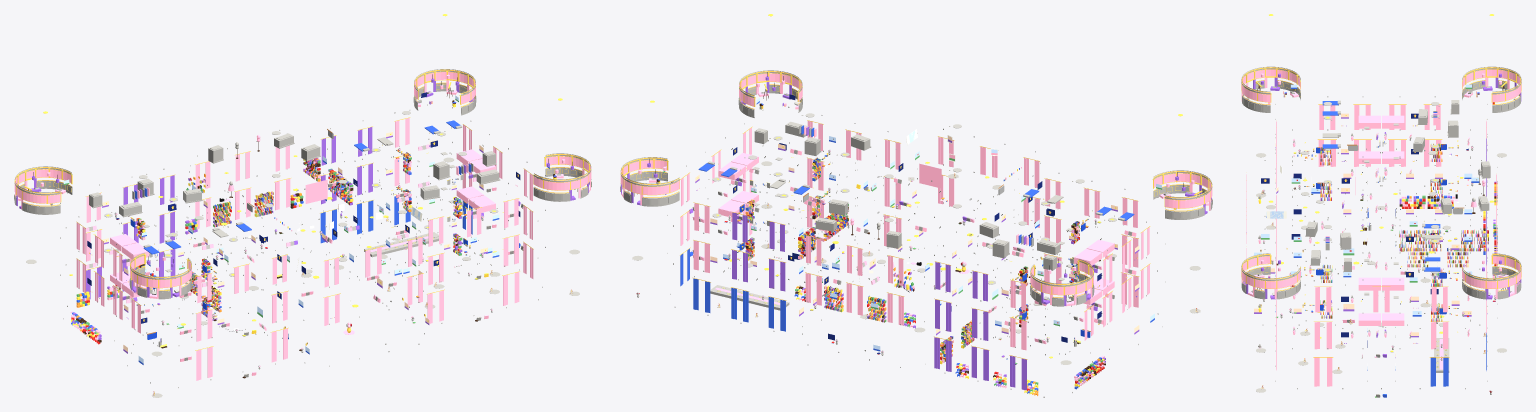
File: SM_ObeliskGirls_Interior_NoCol.fbx
3 views of the same model, side by side, from view 1: azimuth 30°, elevation 25°; view 2: azimuth 150°, elevation 25°; view 3: azimuth 270°, elevation 25° (orthographic). The views are drawn at different scales.
Visible parts, largest first — view 1: SM_ObeliskGirls_Interior_NoCol; view 2: SM_ObeliskGirls_Interior_NoCol; view 3: SM_ObeliskGirls_Interior_NoCol.
Part boxes in pixels (x1,y1,x2,y2): SM_ObeliskGirls_Interior_NoCol: (14,14,591,397); SM_ObeliskGirls_Interior_NoCol: (620,14,1212,397); SM_ObeliskGirls_Interior_NoCol: (1241,14,1521,397).
Bounding box in the file's own units: 49.93 × 21.05 × 27.93.
